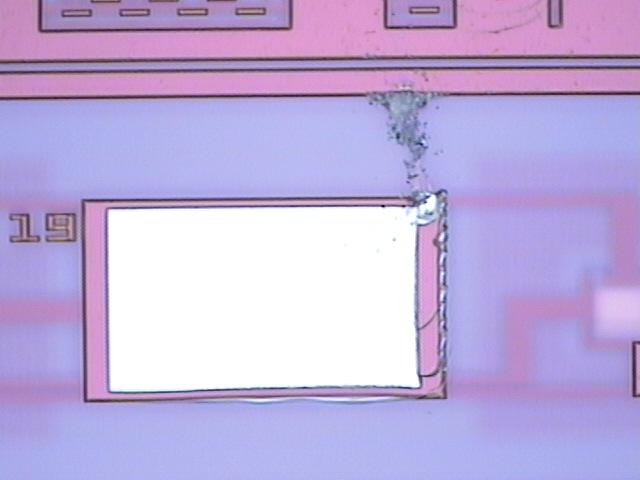SCRATCH: (349, 22, 460, 373)
